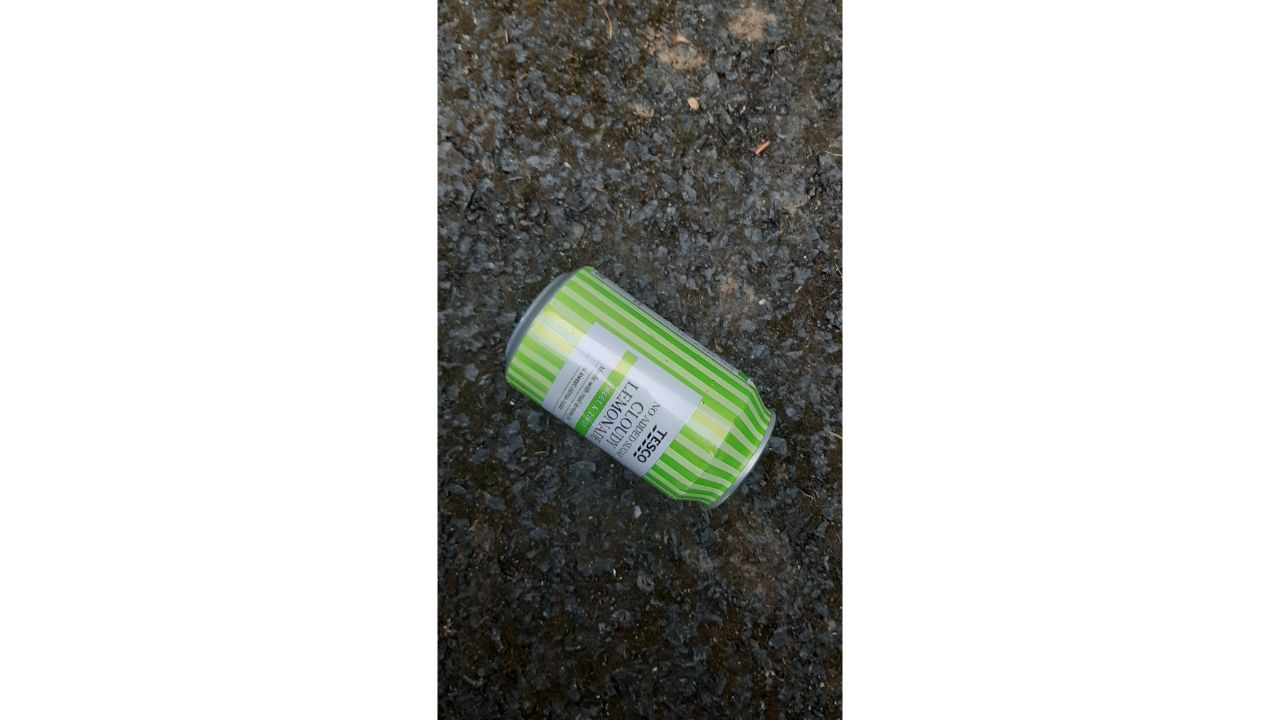Can: (484, 252, 793, 530)
